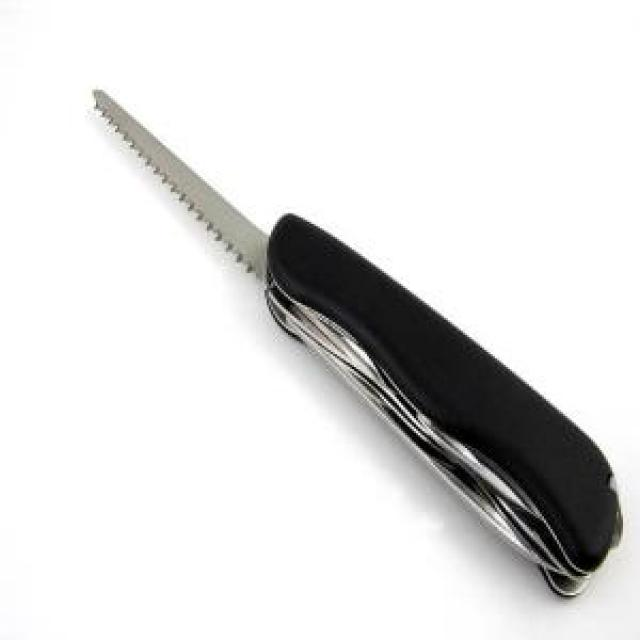knife: (92, 87, 626, 605)
